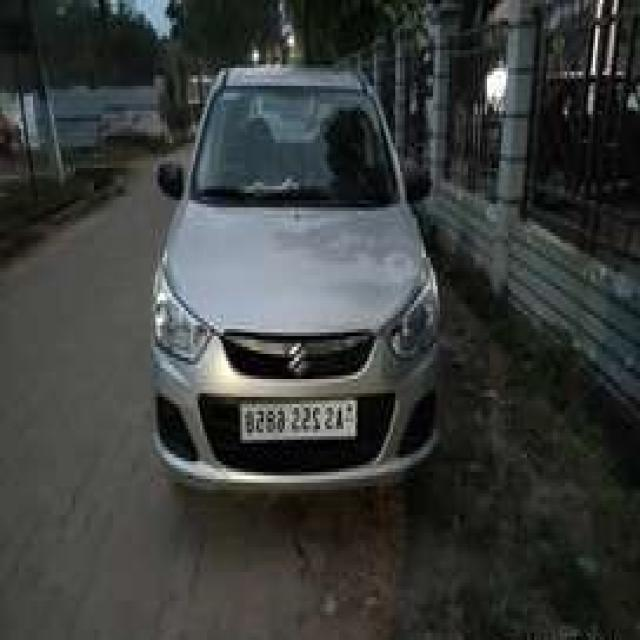license_plate: (237, 393, 360, 448)
